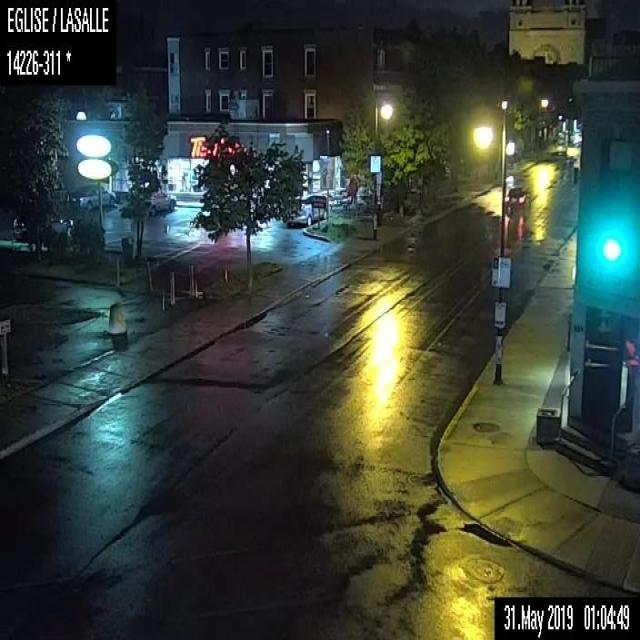vehicle: (65, 182, 117, 212), (282, 203, 328, 224), (146, 188, 176, 214), (504, 185, 526, 208)
